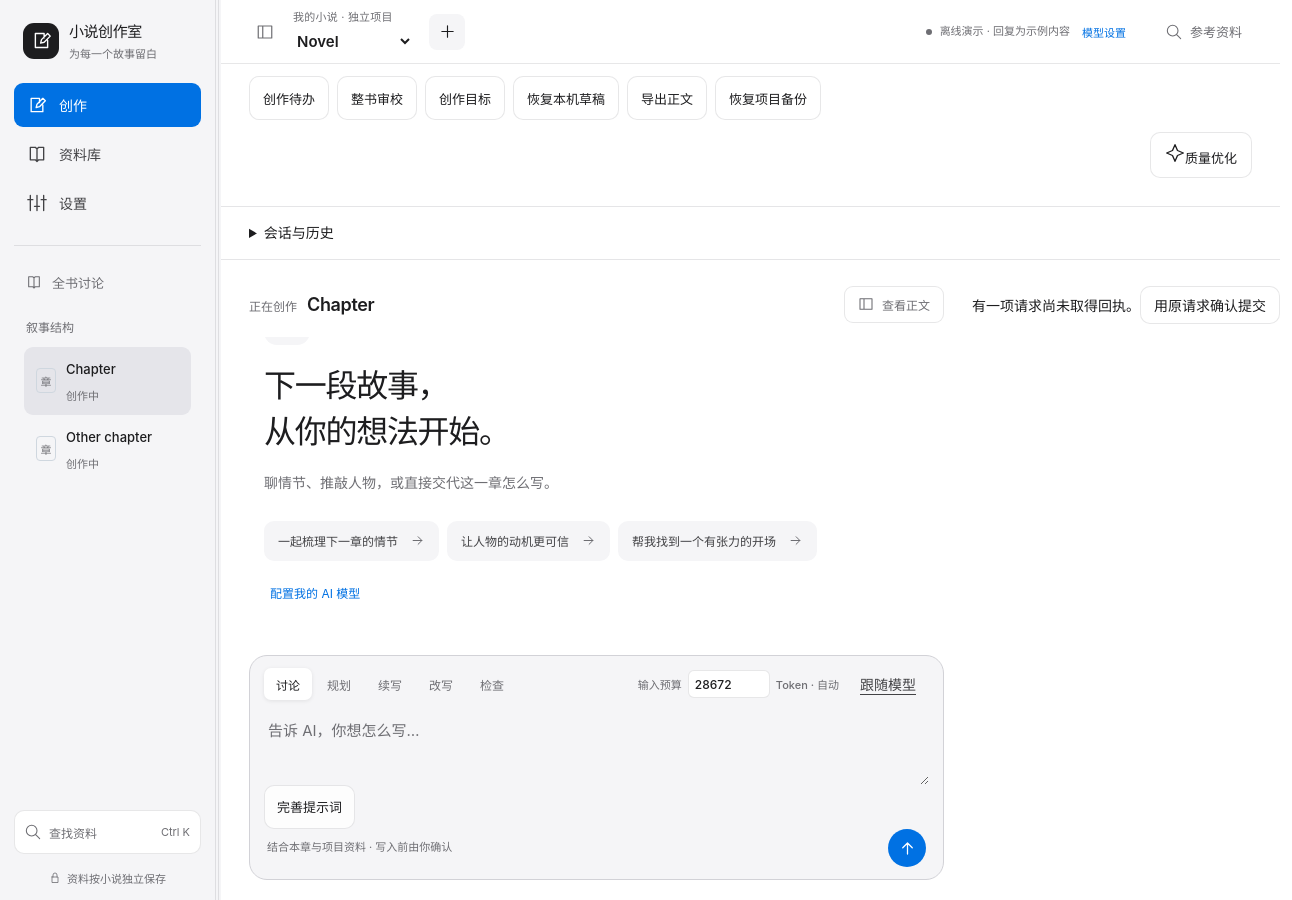
keeps the blocker guidance when a persisted summary submission is replayed
(page scrolled)
Check: the text box named "给 AI 的消息" is shown, box [264,702,929,785]
Click the button "用原请求确认提交" at x=1210, y=305, box [1140,286,1280,324]
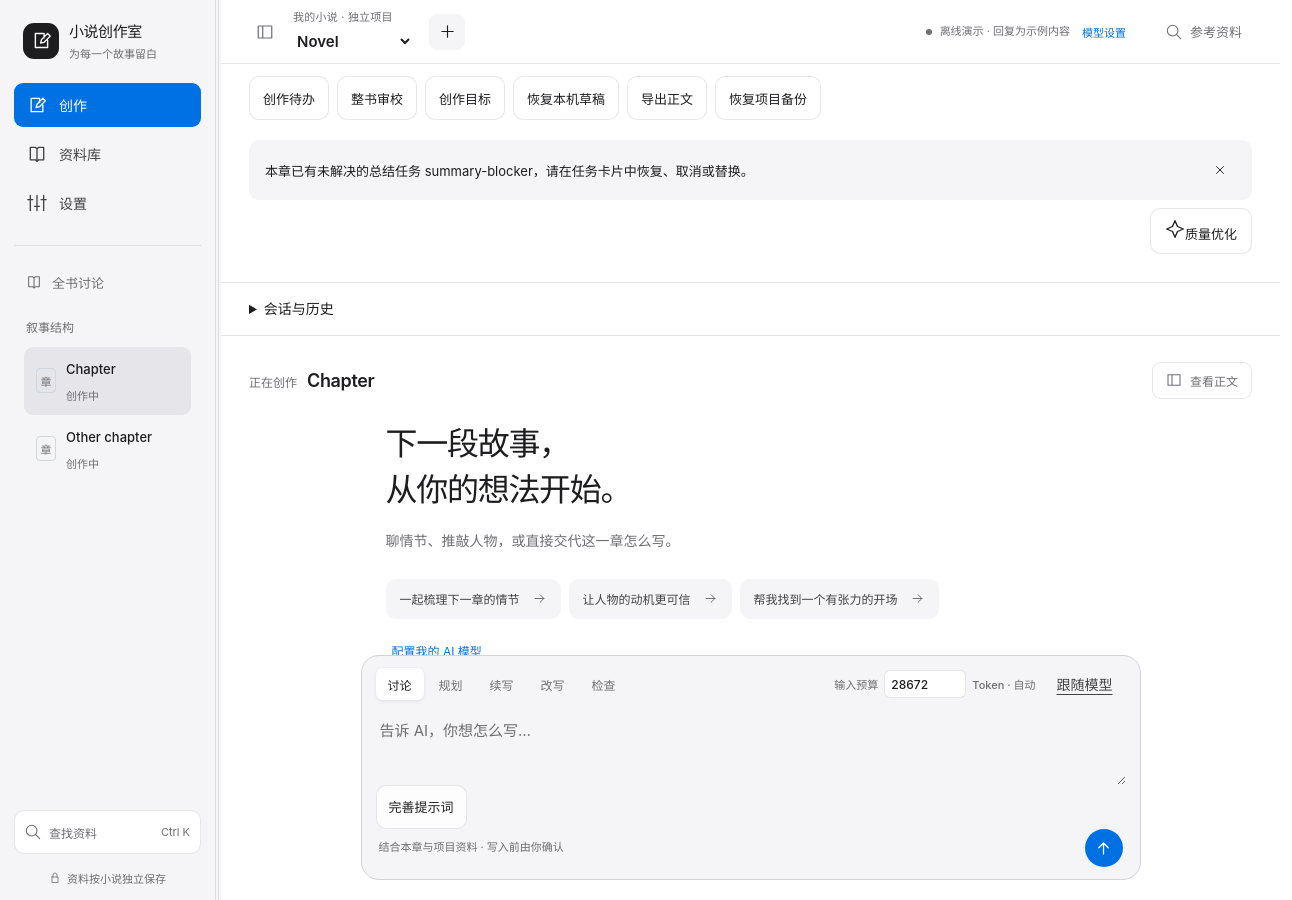
Check: the text "本章已有未解决的总结任务 summary-blocker，请在任务卡片中恢复、取消或替换。" is shown, box [249,140,1252,200]
